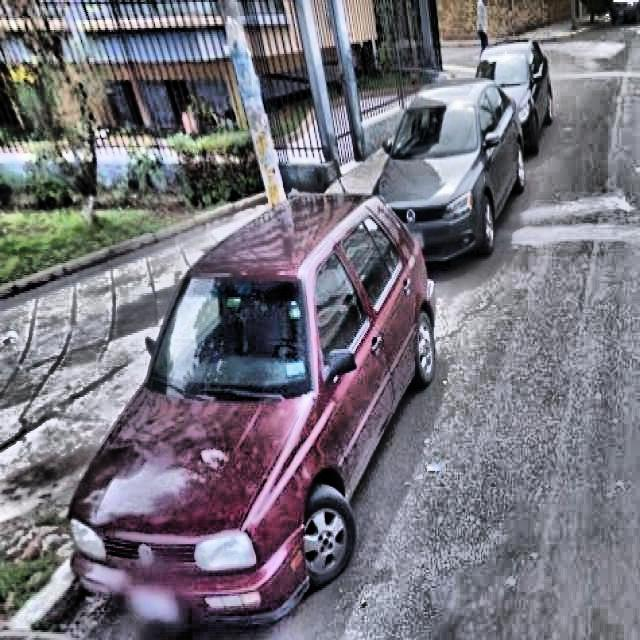carro: (72, 200, 446, 640), (374, 50, 504, 216)
